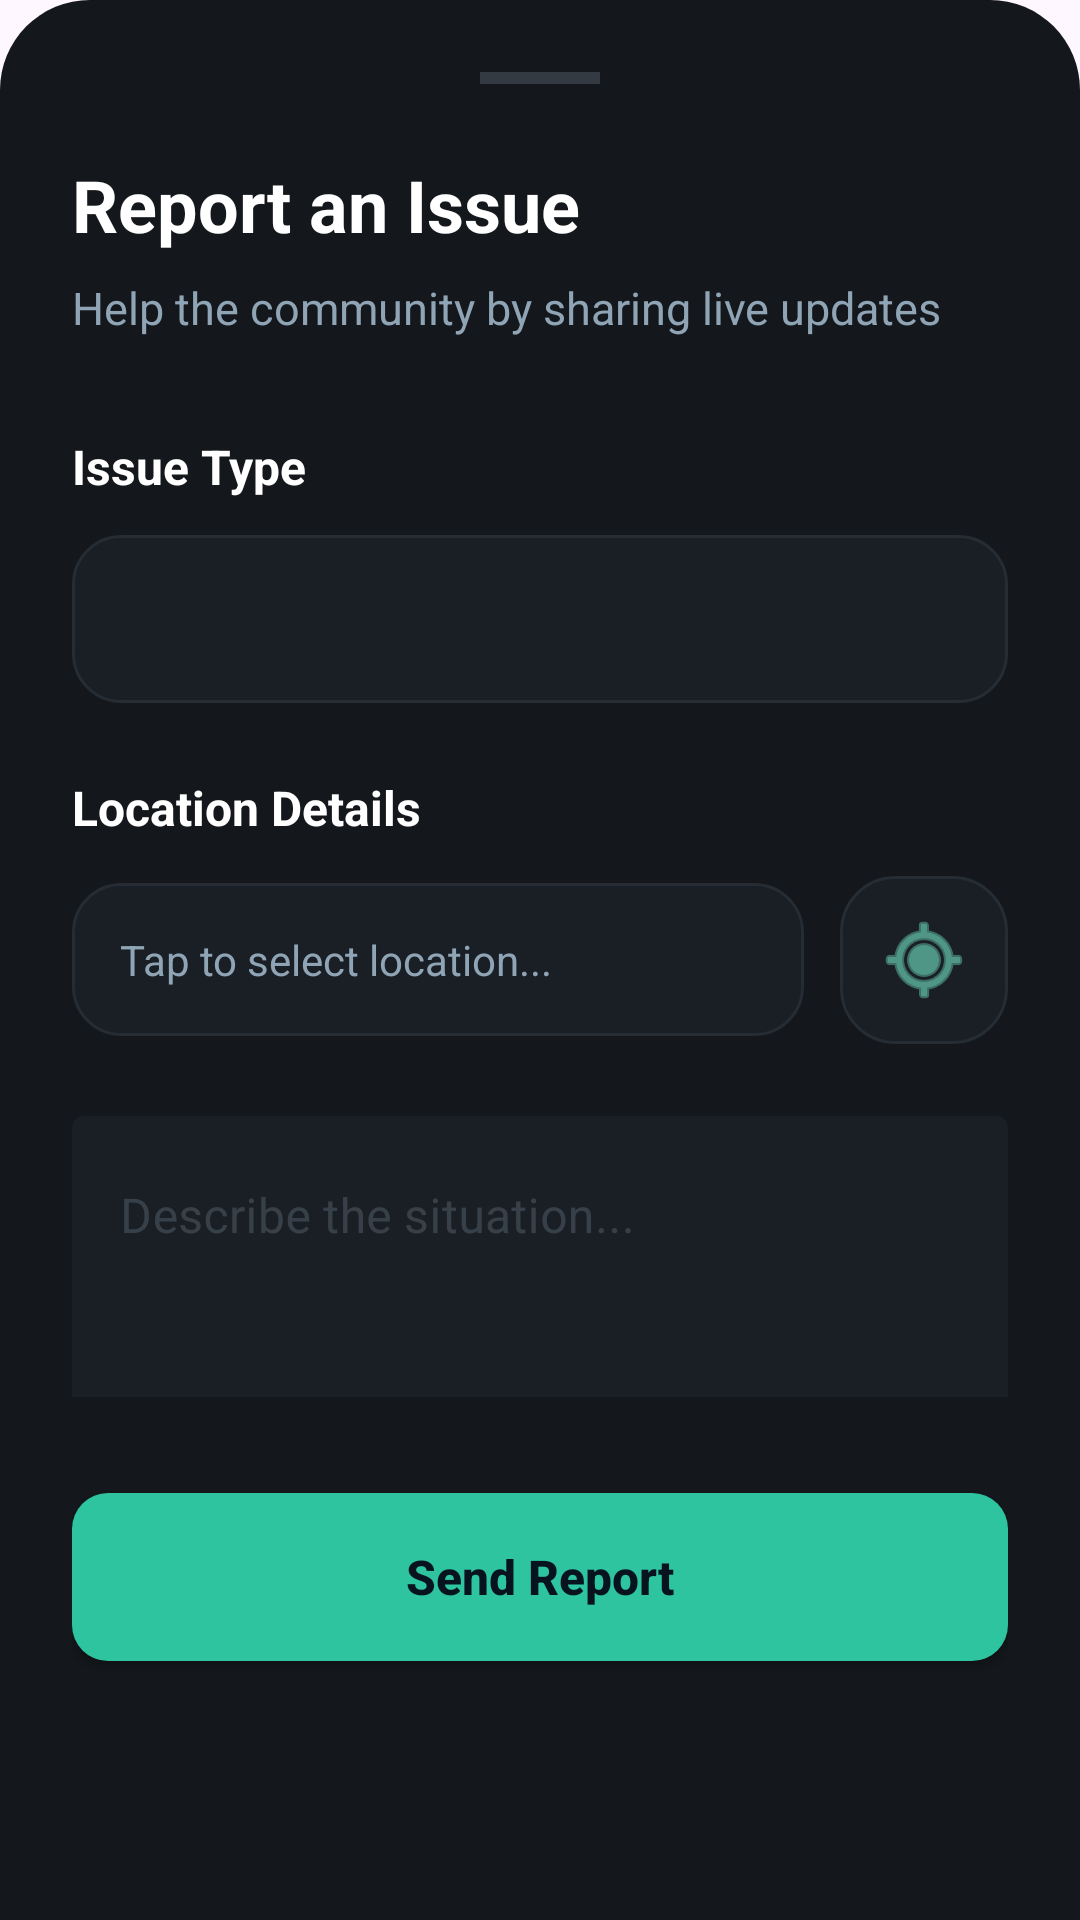

Icon bounding boxes for this 1080w x 1920h phone screenshot, format (x1, y1, x2, y2):
mylocation: (840, 876, 1008, 1044)
